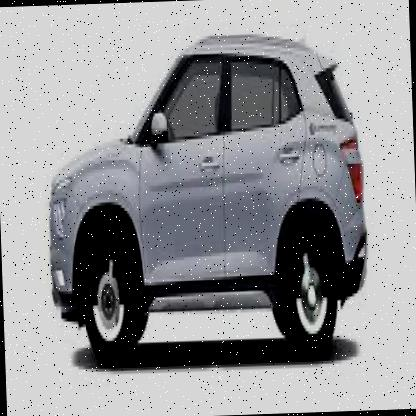car: (31, 18, 377, 368)
